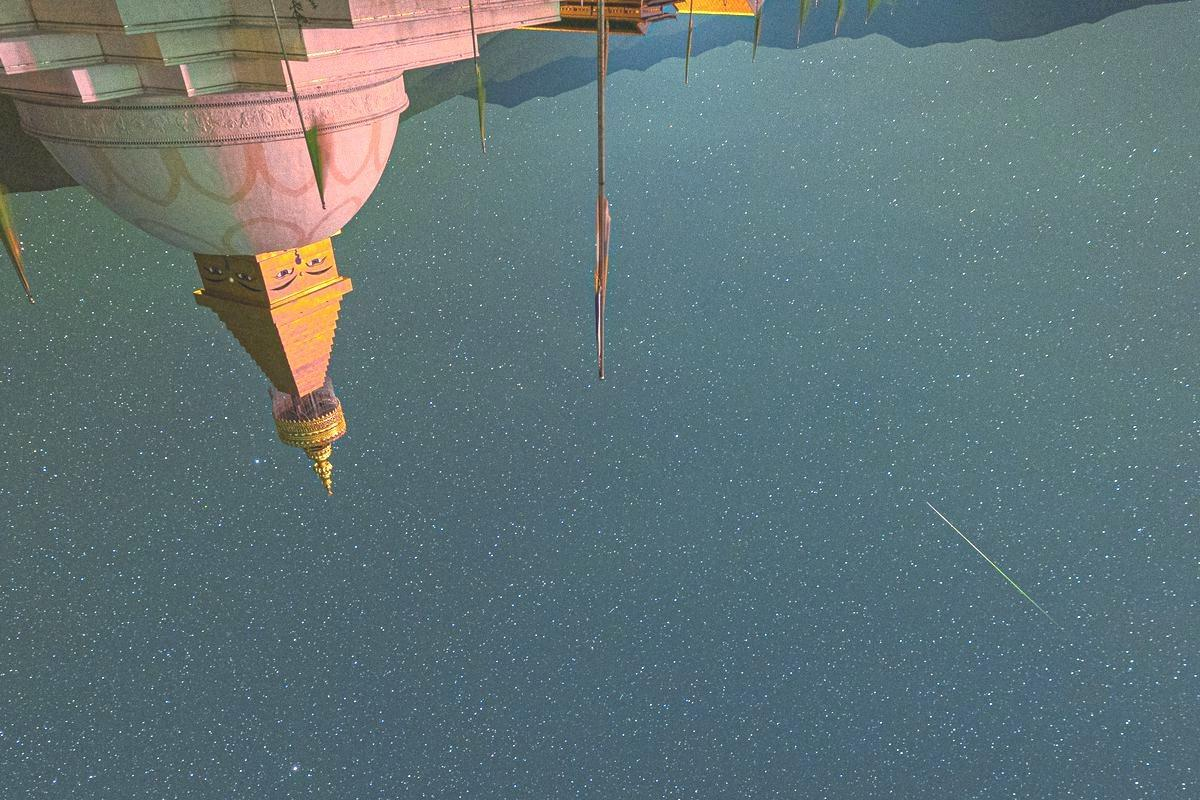meteorite: (904, 495, 1027, 578)
